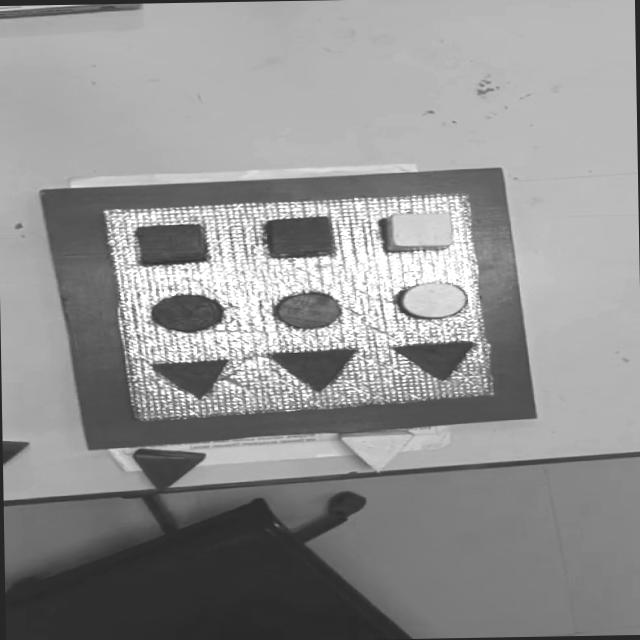bcircle: (148, 293, 226, 334)
bcube: (135, 222, 209, 266)
btriangle: (2, 440, 30, 470)
mttriangle: (268, 347, 360, 394), (394, 340, 479, 382), (149, 358, 232, 400)
rcircle: (274, 291, 344, 330)
rcube: (265, 216, 336, 258)
rtriangle: (132, 446, 210, 492)
wb: (104, 190, 495, 422)
ycircle: (396, 280, 471, 320)
ycube: (382, 212, 454, 252)
ytriangle: (340, 429, 416, 474)
